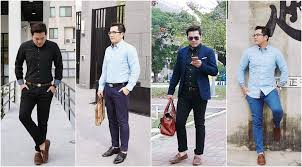S_shirt: (238, 45, 286, 99)
